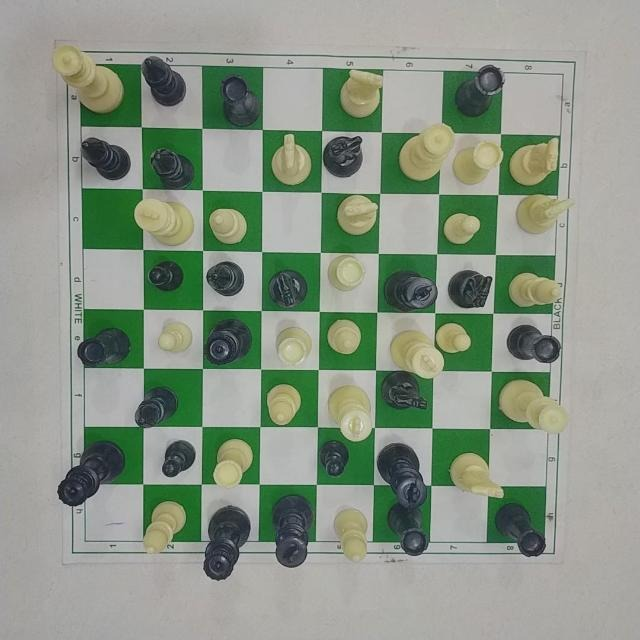black-bishop: (141, 51, 195, 110), (145, 141, 199, 191), (77, 136, 135, 182), (130, 377, 180, 430), (200, 259, 248, 298)
black-king: (268, 492, 320, 572), (375, 439, 431, 511), (378, 263, 443, 317)
black-knight: (383, 368, 429, 418), (323, 132, 365, 182), (447, 265, 494, 309), (266, 268, 310, 310)
black-pawn: (145, 258, 189, 294), (162, 438, 198, 478), (318, 439, 350, 479)
black-queen: (56, 437, 128, 512), (200, 499, 256, 589), (200, 316, 256, 364)
black-rook: (495, 501, 550, 562), (454, 58, 507, 119), (502, 323, 566, 366), (76, 327, 139, 367), (388, 502, 433, 557), (219, 70, 262, 126)
white-bishop: (143, 499, 191, 555), (329, 504, 372, 564), (202, 201, 254, 249), (260, 381, 309, 429), (508, 267, 564, 307), (326, 316, 363, 359)
white-king: (131, 195, 194, 247), (385, 329, 448, 381), (327, 384, 379, 444)
white-knight: (507, 135, 569, 189), (448, 448, 510, 502), (334, 66, 387, 123), (514, 192, 578, 239), (268, 129, 316, 187), (334, 192, 380, 238)
white-pawn: (156, 317, 197, 356), (439, 210, 483, 246), (434, 322, 479, 356)
white-queen: (48, 38, 131, 115), (495, 375, 575, 439), (401, 121, 457, 185)
white-rook: (457, 137, 504, 189), (211, 437, 256, 490), (273, 322, 317, 367), (326, 252, 368, 294)
